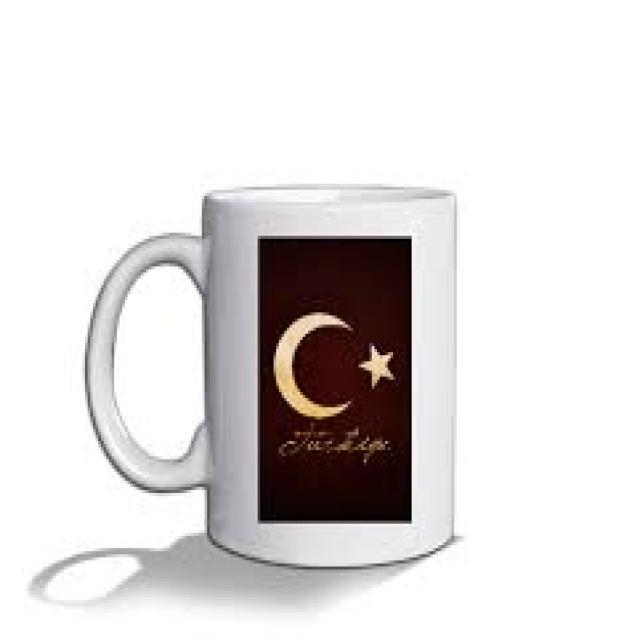taza: (81, 180, 458, 571)
